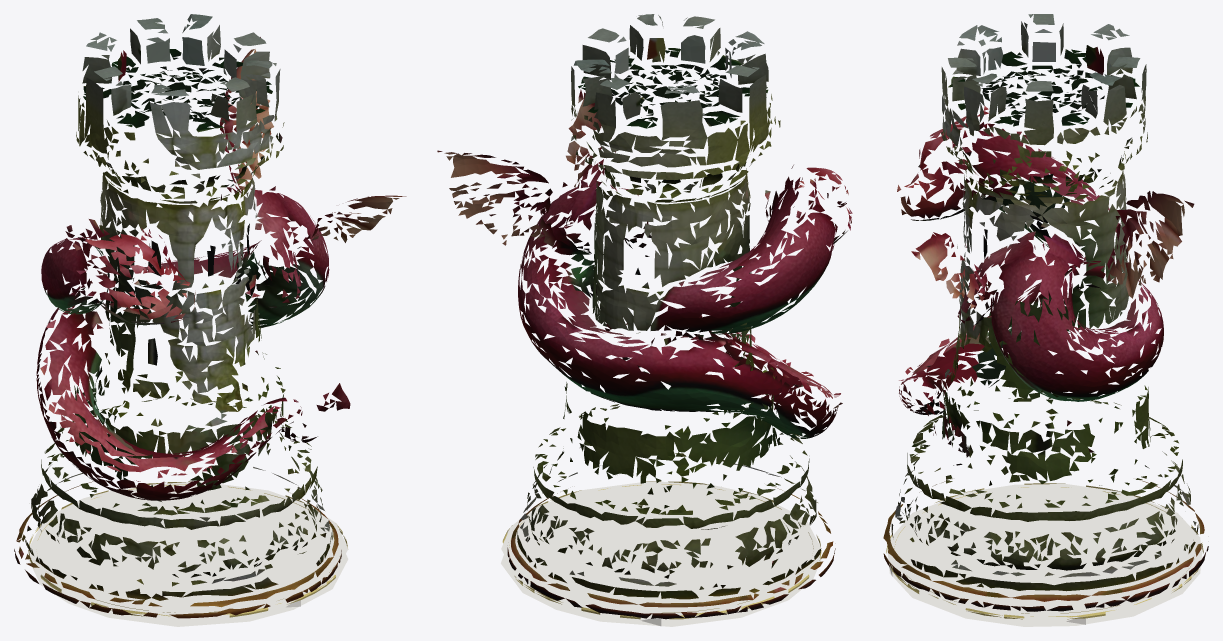
Rendered from rook-swamp-draghessa-10k.glb.
3 views of the same model, side by side, from view 1: azimuth 30°, elevation 25°; view 2: azimuth 150°, elevation 25°; view 3: azimuth 270°, elevation 25° (orthographic).
Visible parts, largest first — view 1: tmp0xn35dgk.ply, FactionPedestal, FactionTrimRing; view 2: tmp0xn35dgk.ply, FactionPedestal, FactionTrimRing; view 3: tmp0xn35dgk.ply, FactionPedestal, FactionTrimRing.
Part boxes in pixels (box(x1,y1,x2,y2)): tmp0xn35dgk.ply: box(14, 14, 406, 618); FactionPedestal: box(28, 481, 348, 626); FactionTrimRing: box(28, 481, 347, 617); tmp0xn35dgk.ply: box(437, 14, 852, 619); FactionPedestal: box(501, 481, 821, 626); FactionTrimRing: box(502, 481, 821, 619); tmp0xn35dgk.ply: box(883, 14, 1208, 611); FactionPedestal: box(887, 484, 1202, 626); FactionTrimRing: box(886, 483, 1203, 619).
Bounding box in the file's own units: 0.8125 × 1.3 × 0.7679.
Materials: 3 (1 with a texture image).
